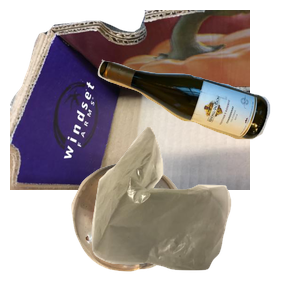cardboard: (10, 10, 250, 190)
glass: (95, 57, 300, 189)
plastic: (69, 161, 245, 300)
trash: (89, 124, 300, 300)
